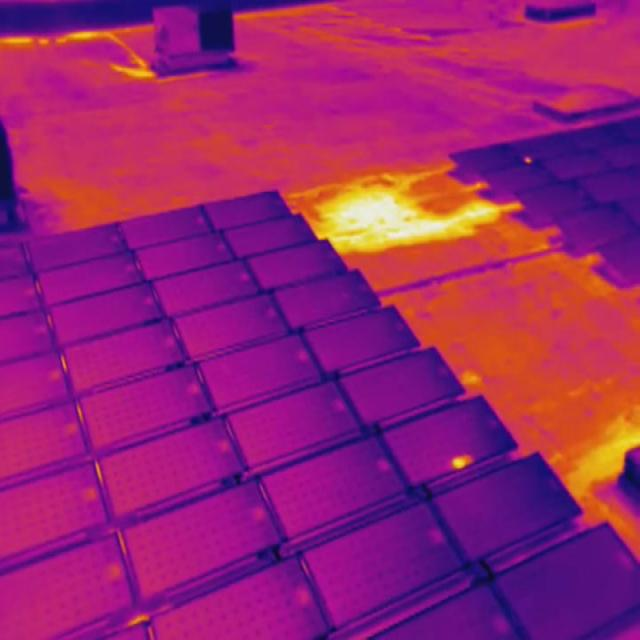Orange-Spots: (450, 454, 474, 469), (524, 156, 532, 163)
